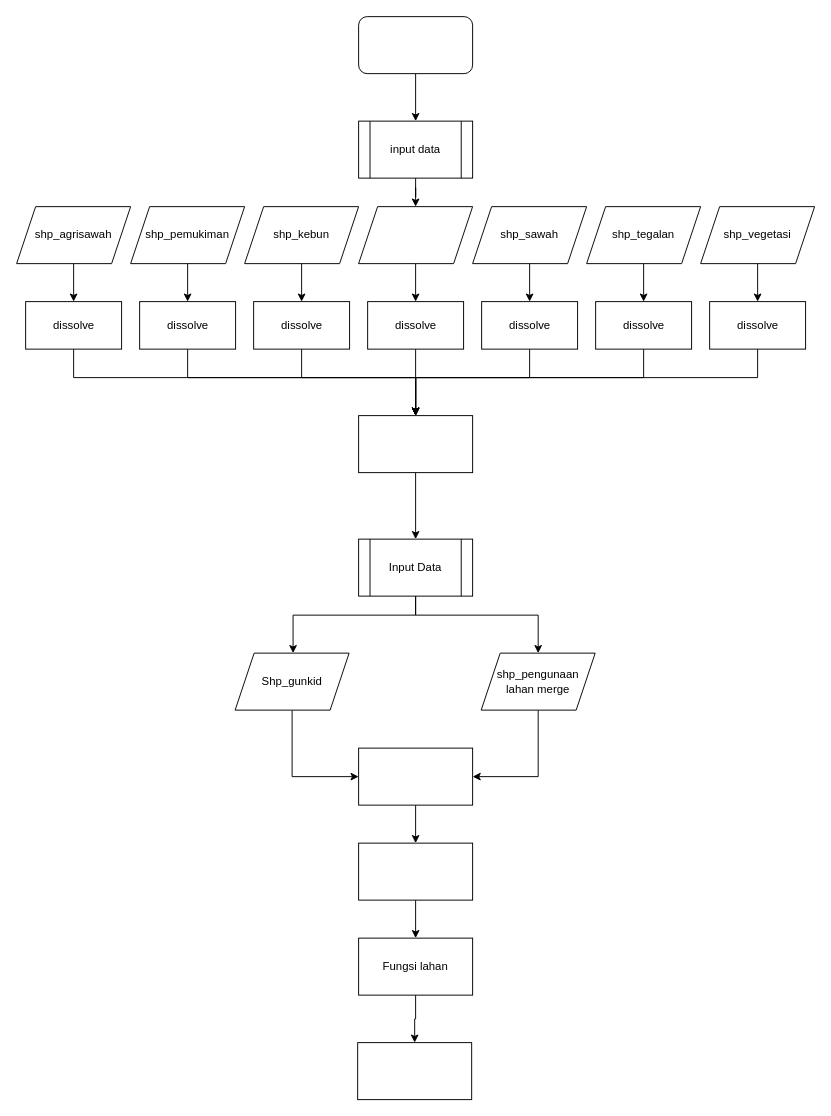
This 831x1116 diagram has some shape labels left out. The shapes that lost their labels are listed below. From the top down, each one's centre as x and y in pixels, then its label:
the point at 415,45: mulai
the point at 415,235: shp_bangunan
the point at 415,444: penggunaan lahan merge
the point at 415,776: clip
the point at 415,871: Union
the point at 414,1071: Selesai
